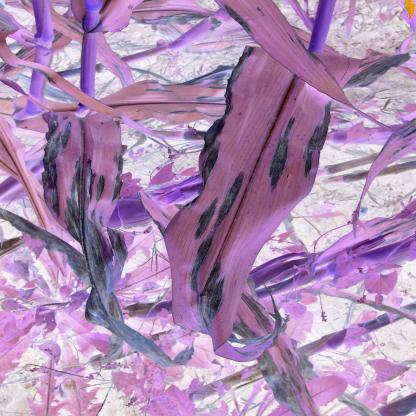Corn leaf blight: (69, 117, 416, 259), (47, 19, 416, 141), (4, 171, 174, 240), (388, 73, 416, 184)
